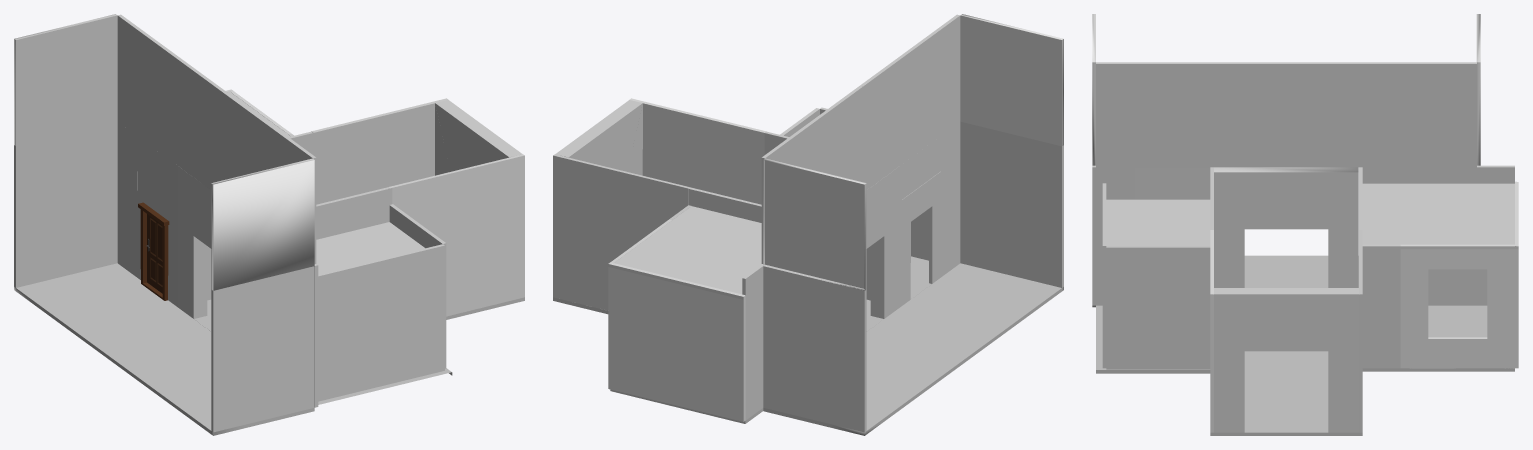
File: Pre-SalaButacas.fbx
3 views of the same model, side by side, from view 1: azimuth 30°, elevation 25°; view 2: azimuth 150°, elevation 25°; view 3: azimuth 270°, elevation 25° (orthographic). The views are drawn at different scales.
Parts seen in each view (by area): view 1: wall_plain_4x4m_ext_001.003, floor_10x10m.002, wall_plain_3x4m_ext_010.001, wall_plain_3x4m_ext_016.001, wall_plain_4x4m_ext_003.002, wall_plain_3x4m_ext_015.001, wall_plain_3x4m_ext_017.001, wall_plain_5x4m_ext_014.001, wall_plain_4x4m_ext_005.001, wall_plain_5x4m_ext_013.001, wall_door_double_regular_3x3m_ext_003.001, wall_door_double_regular_3x3m_ext_002.001 (+11 smaller); view 2: wall_plain_4x4m_ext_003.003, floor_10x10m.002, wall_plain_3x4m_ext_016.001, wall_plain_3x4m_ext_010.001, wall_plain_4x4m_ext_005.001, wall_plain_3x4m_ext_015.001, wall_plain_3x4m_ext_017.001, wall_plain_5x4m_ext_013.001, wall_plain_4x4m_ext_003.002, wall_plain_4x4m_ext_002.005, wall_plain_5x4m_ext_014.001, wall_door_double_regular_3x3m_ext_003.001 (+9 smaller); view 3: wall_plain_5x4m_ext_014.001, wall_plain_5x4m_ext_013.001, wall_door_double_regular_3x3m_ext_002.001, wall_plain_4x4m_ext_001.004, wall_door_double_regular_3x3m_ext_003.001, wall_window_rectangle_3x4m_ext_001.001, wall_plain_4x4m_ext_002.005, floor_4x4m_004.001, wall_plain_4x4m_ext_002.004, wall_plain_2x4m_ext_016.001, wall_plain_2x4m_ext_007.001, floor_10x10m.002 (+12 smaller).
Part boxes in pixels (x1,y1,x2,y2): wall_plain_4x4m_ext_001.003: (318,244,444,401); floor_10x10m.002: (14,263,314,435); wall_plain_3x4m_ext_010.001: (211,266,314,432); wall_plain_3x4m_ext_016.001: (14,121,117,287); wall_plain_4x4m_ext_003.002: (388,154,524,316); wall_plain_3x4m_ext_015.001: (211,158,314,290); wall_plain_3x4m_ext_017.001: (14,14,117,146); wall_plain_5x4m_ext_014.001: (117,14,217,189); wall_plain_4x4m_ext_005.001: (311,98,448,204); wall_plain_5x4m_ext_013.001: (215,86,316,263); wall_door_double_regular_3x3m_ext_003.001: (178,166,211,318); wall_door_double_regular_3x3m_ext_002.001: (435,100,522,175); wall_plain_4x4m_ext_003.003: (608,262,745,421); floor_10x10m.002: (763,263,1063,435); wall_plain_3x4m_ext_016.001: (763,264,866,432); wall_plain_3x4m_ext_010.001: (960,121,1063,287); wall_plain_4x4m_ext_005.001: (553,154,689,310); wall_plain_3x4m_ext_015.001: (960,14,1063,146); wall_plain_3x4m_ext_017.001: (763,158,866,290); wall_plain_5x4m_ext_013.001: (860,14,960,189); wall_plain_4x4m_ext_003.002: (629,98,766,204); wall_plain_4x4m_ext_002.005: (608,206,761,299); wall_plain_5x4m_ext_014.001: (761,86,862,263); wall_door_double_regular_3x3m_ext_003.001: (866,166,899,318); wall_plain_5x4m_ext_014.001: (1286,62,1476,167); wall_plain_5x4m_ext_013.001: (1096,62,1286,167); wall_door_double_regular_3x3m_ext_002.001: (1214,288,1358,432); wall_plain_4x4m_ext_001.004: (1106,246,1210,369); wall_door_double_regular_3x3m_ext_003.001: (1214,167,1358,287); wall_window_rectangle_3x4m_ext_001.001: (1400,244,1514,368); wall_plain_4x4m_ext_002.005: (1362,183,1518,249); floor_4x4m_004.001: (1210,368,1362,435); wall_plain_4x4m_ext_002.004: (1106,199,1210,245); wall_plain_2x4m_ext_016.001: (1362,244,1400,368); wall_plain_2x4m_ext_007.001: (1438,165,1514,305); floor_10x10m.002: (1092,255,1358,307).
Bounding box in the file's own units: 1100 × 710 × 1120.
